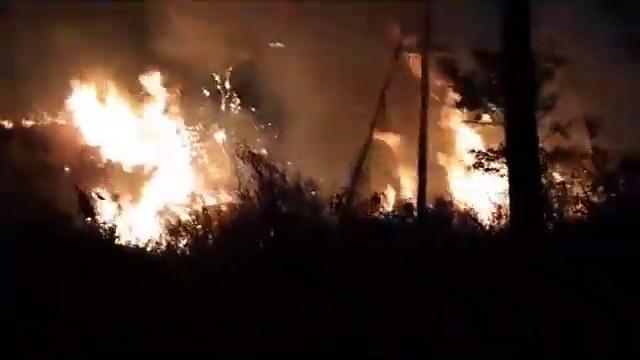fire: (98, 102, 186, 232), (458, 125, 509, 219)
